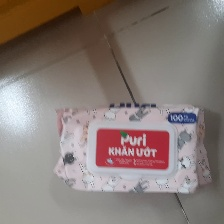Puri hong: (52, 101, 214, 195)
